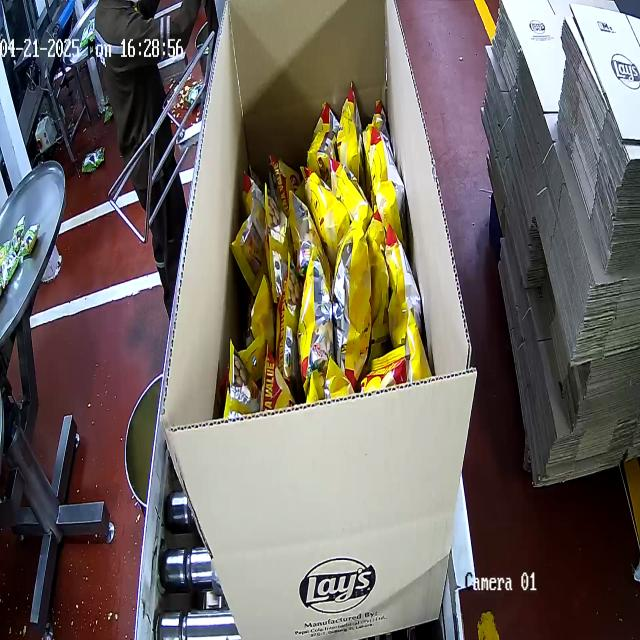SALTED: (236, 95, 426, 396)
